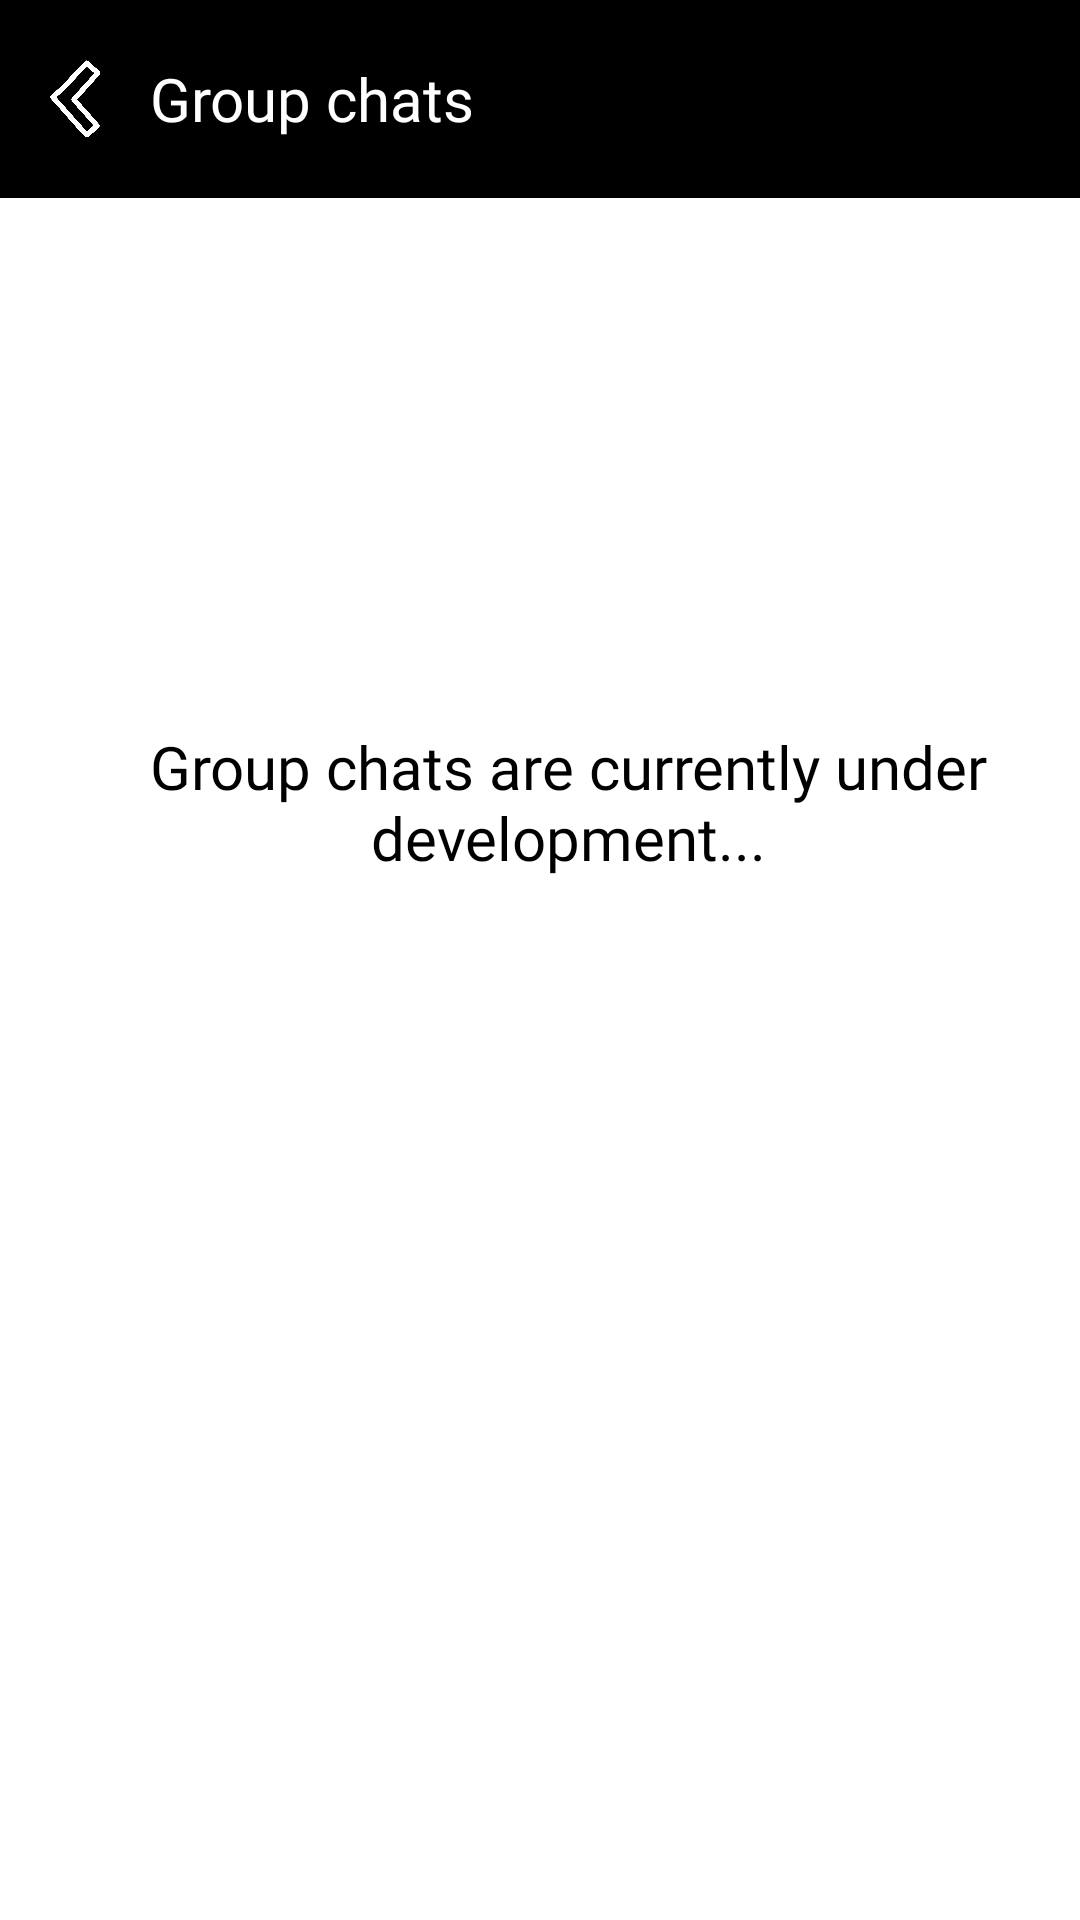

Screen size 1080 × 1920. Icon name, then its center in pixels as point (x, y):
back: point (75, 98)
